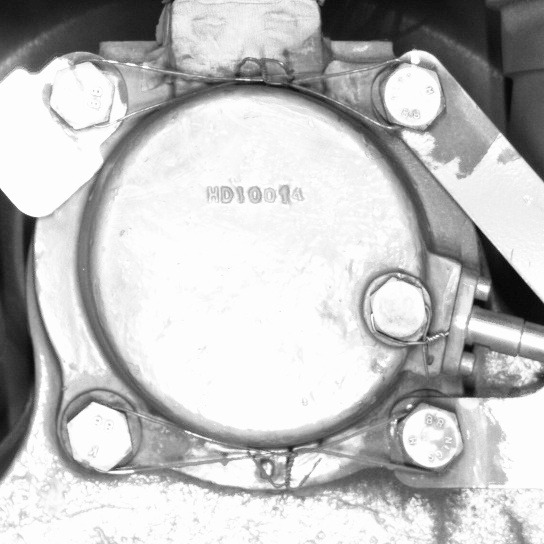IronWire: (56, 389, 475, 480), (44, 50, 453, 140)
Screw: (381, 389, 476, 480), (56, 388, 148, 480), (362, 52, 452, 139), (43, 50, 128, 139), (353, 264, 437, 352)
